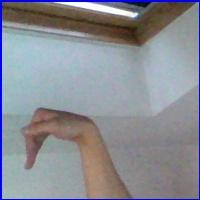del: (19, 103, 100, 175)
